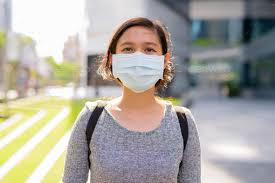with-mask: (104, 22, 174, 91)
